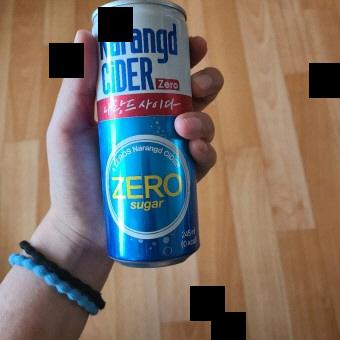narangdcider: (89, 0, 204, 271)
